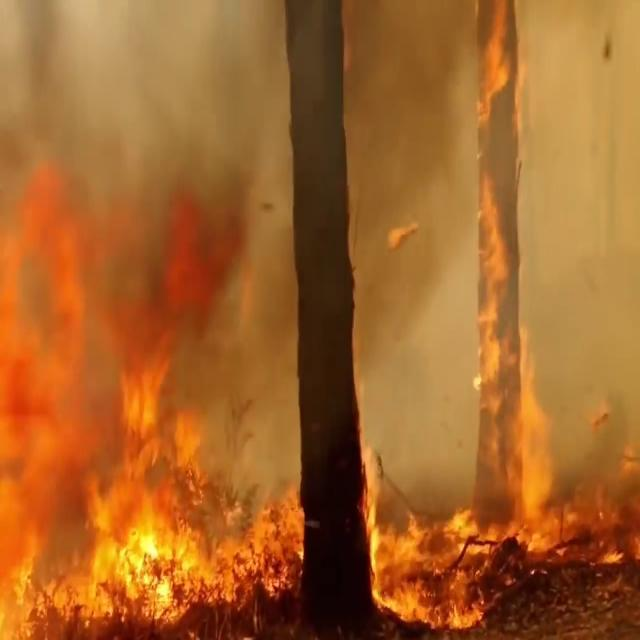Fire: (375, 38, 640, 638), (1, 299, 290, 633)
Smoke: (0, 0, 638, 467)
